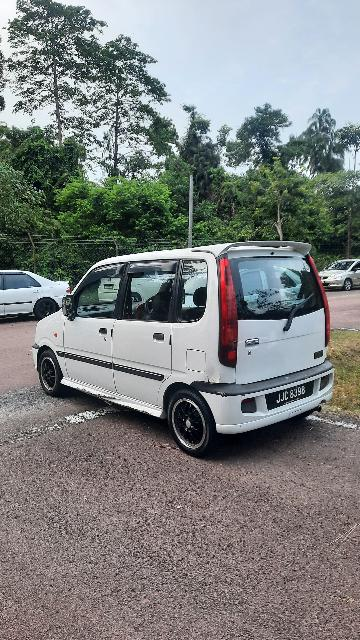License_Plate: (263, 380, 321, 412)
car: (33, 241, 339, 453)
